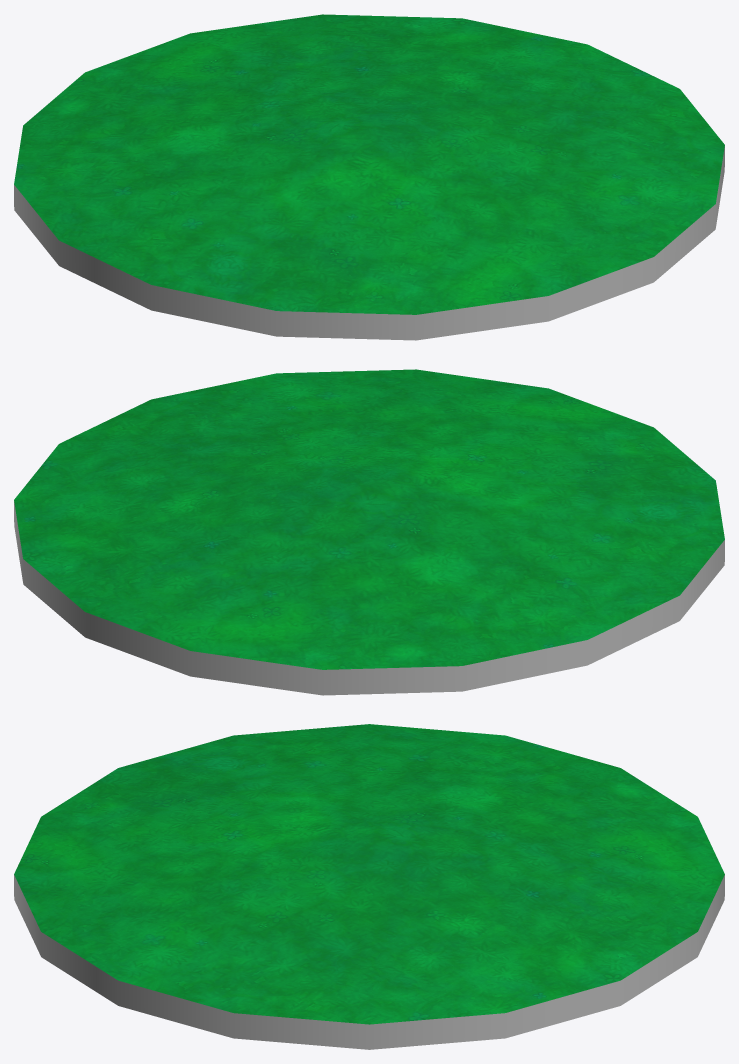
File: Plant01_b06_col.FBX
3 views of the same model, one above another, from view 1: azimuth 30°, elevation 25°; view 2: azimuth 150°, elevation 25°; view 3: azimuth 270°, elevation 25° (orthographic).
Parts seen in each view (by area): view 1: Plant01_b06_col; view 2: Plant01_b06_col; view 3: Plant01_b06_col.
Boxes of the visible parts, x1,y1,x2,y2 form: Plant01_b06_col: (14, 14, 724, 340); Plant01_b06_col: (14, 369, 724, 695); Plant01_b06_col: (14, 724, 724, 1049).
Bounding box in the file's own units: 679 × 63.53 × 679.
